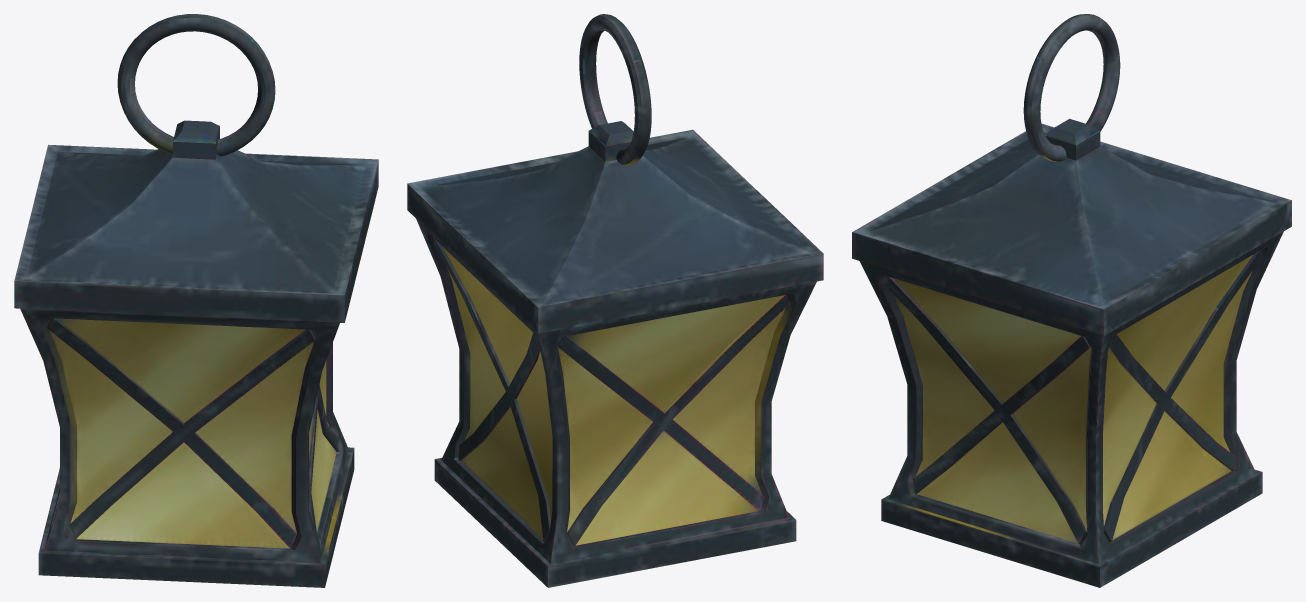
Rendered from LanternLit.obj.
3 renders of one model, left to right at view 1: azimuth 30°, elevation 25°; view 2: azimuth 150°, elevation 25°; view 3: azimuth 270°, elevation 25°, orthographic. The views are drawn at different scales.
Parts seen in each view (by area): view 1: Plane.024; view 2: Plane.024; view 3: Plane.024.
Part boxes in pixels (<box>): Plane.024: <box>14,14,378,587</box>; Plane.024: <box>407,14,823,587</box>; Plane.024: <box>852,14,1291,587</box>.
Size of the model in its own units: 0.8147 by 0.9944 by 0.8114.
1 material, 1 textured.
